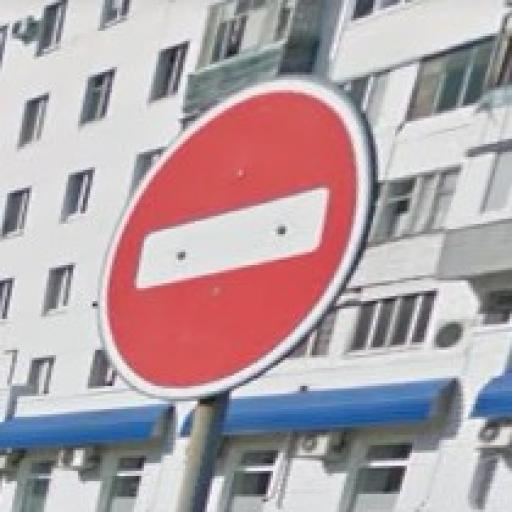traffic_sign: (99, 76, 377, 403)
